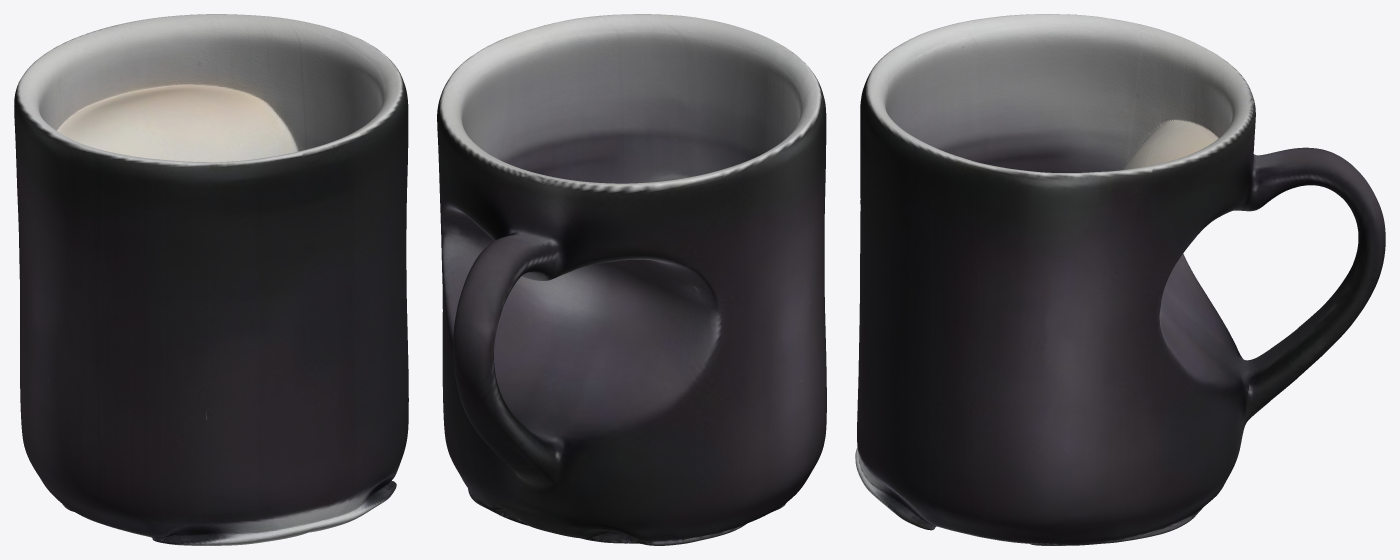
Rendered from mug_heart_shaped_texture.glb.
The picture shows the model from 3 angles, left to right: view 1: azimuth 30°, elevation 25°; view 2: azimuth 150°, elevation 25°; view 3: azimuth 270°, elevation 25°; orthographic projection.
Visible parts, largest first — view 1: tripo_node_4c3f692c-fabb-4b8e-839a-bc2ab04ee75a; view 2: tripo_node_4c3f692c-fabb-4b8e-839a-bc2ab04ee75a; view 3: tripo_node_4c3f692c-fabb-4b8e-839a-bc2ab04ee75a.
Part boxes in pixels (x1,y1,x2,y2): tripo_node_4c3f692c-fabb-4b8e-839a-bc2ab04ee75a: (14,14,408,545); tripo_node_4c3f692c-fabb-4b8e-839a-bc2ab04ee75a: (437,14,826,545); tripo_node_4c3f692c-fabb-4b8e-839a-bc2ab04ee75a: (855,14,1385,545).
Bounding box in the file's own units: 0.7397 × 0.8252 × 1.
Materials: 1 (1 with a texture image).
